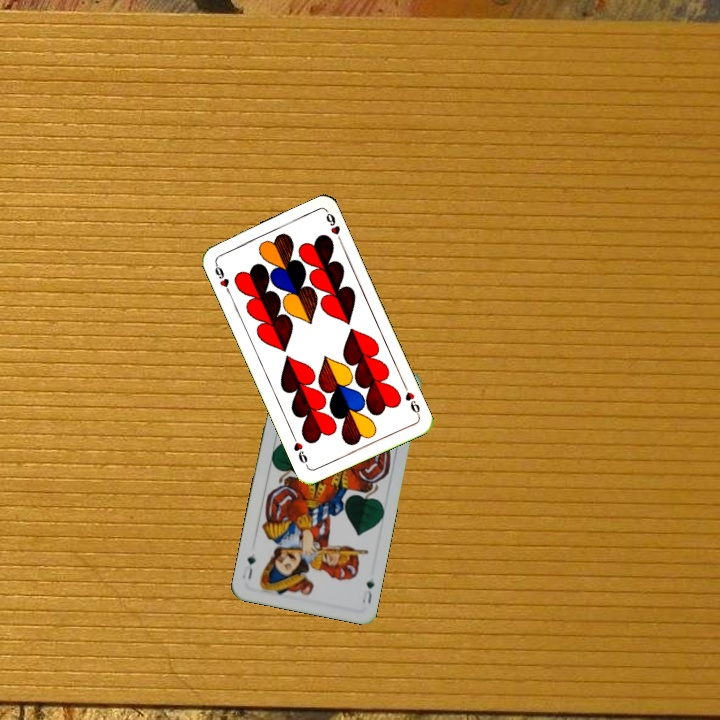GU: (358, 577, 377, 607)
H9: (400, 381, 422, 419), (211, 259, 233, 297)
